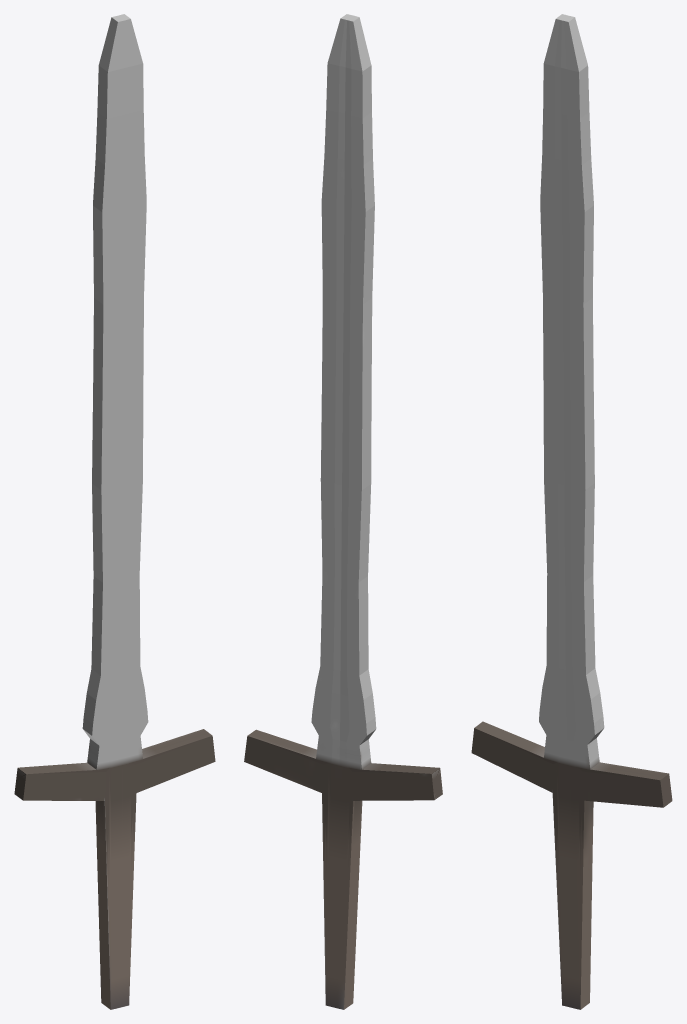
File: sword_000072.obj
The picture shows the model from 3 angles, left to right: view 1: azimuth 30°, elevation 25°; view 2: azimuth 150°, elevation 25°; view 3: azimuth 330°, elevation 25°; orthographic projection.
Size of the model in its own units: 0.1416 by 0.6986 by 0.022.
